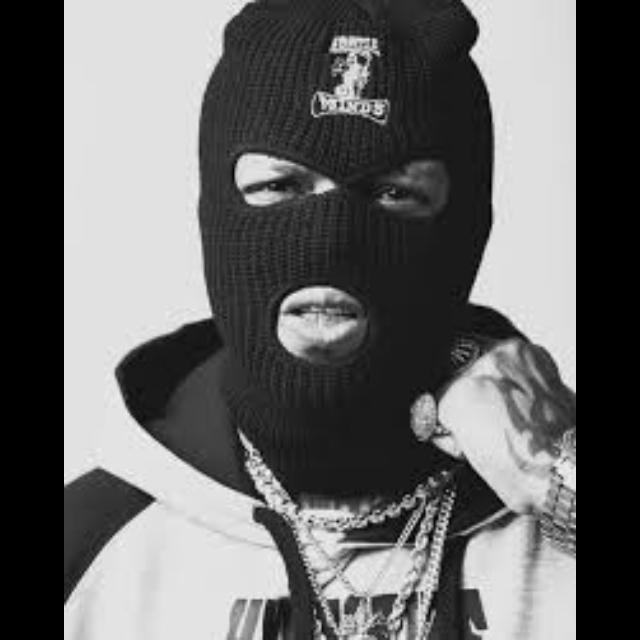criminal: (62, 0, 574, 640)
